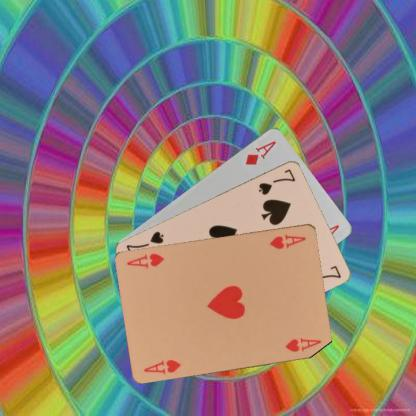7s: (256, 166, 297, 196)
Ad: (242, 138, 277, 166)
Ah: (141, 356, 183, 375), (268, 231, 308, 250)
